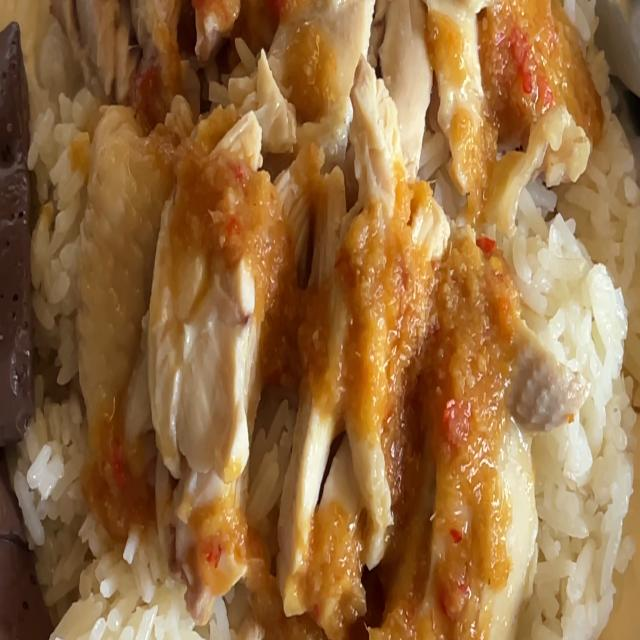chicken_rice: (69, 0, 522, 615)
noodle: (0, 12, 35, 348), (1, 165, 40, 454), (0, 464, 47, 639)
